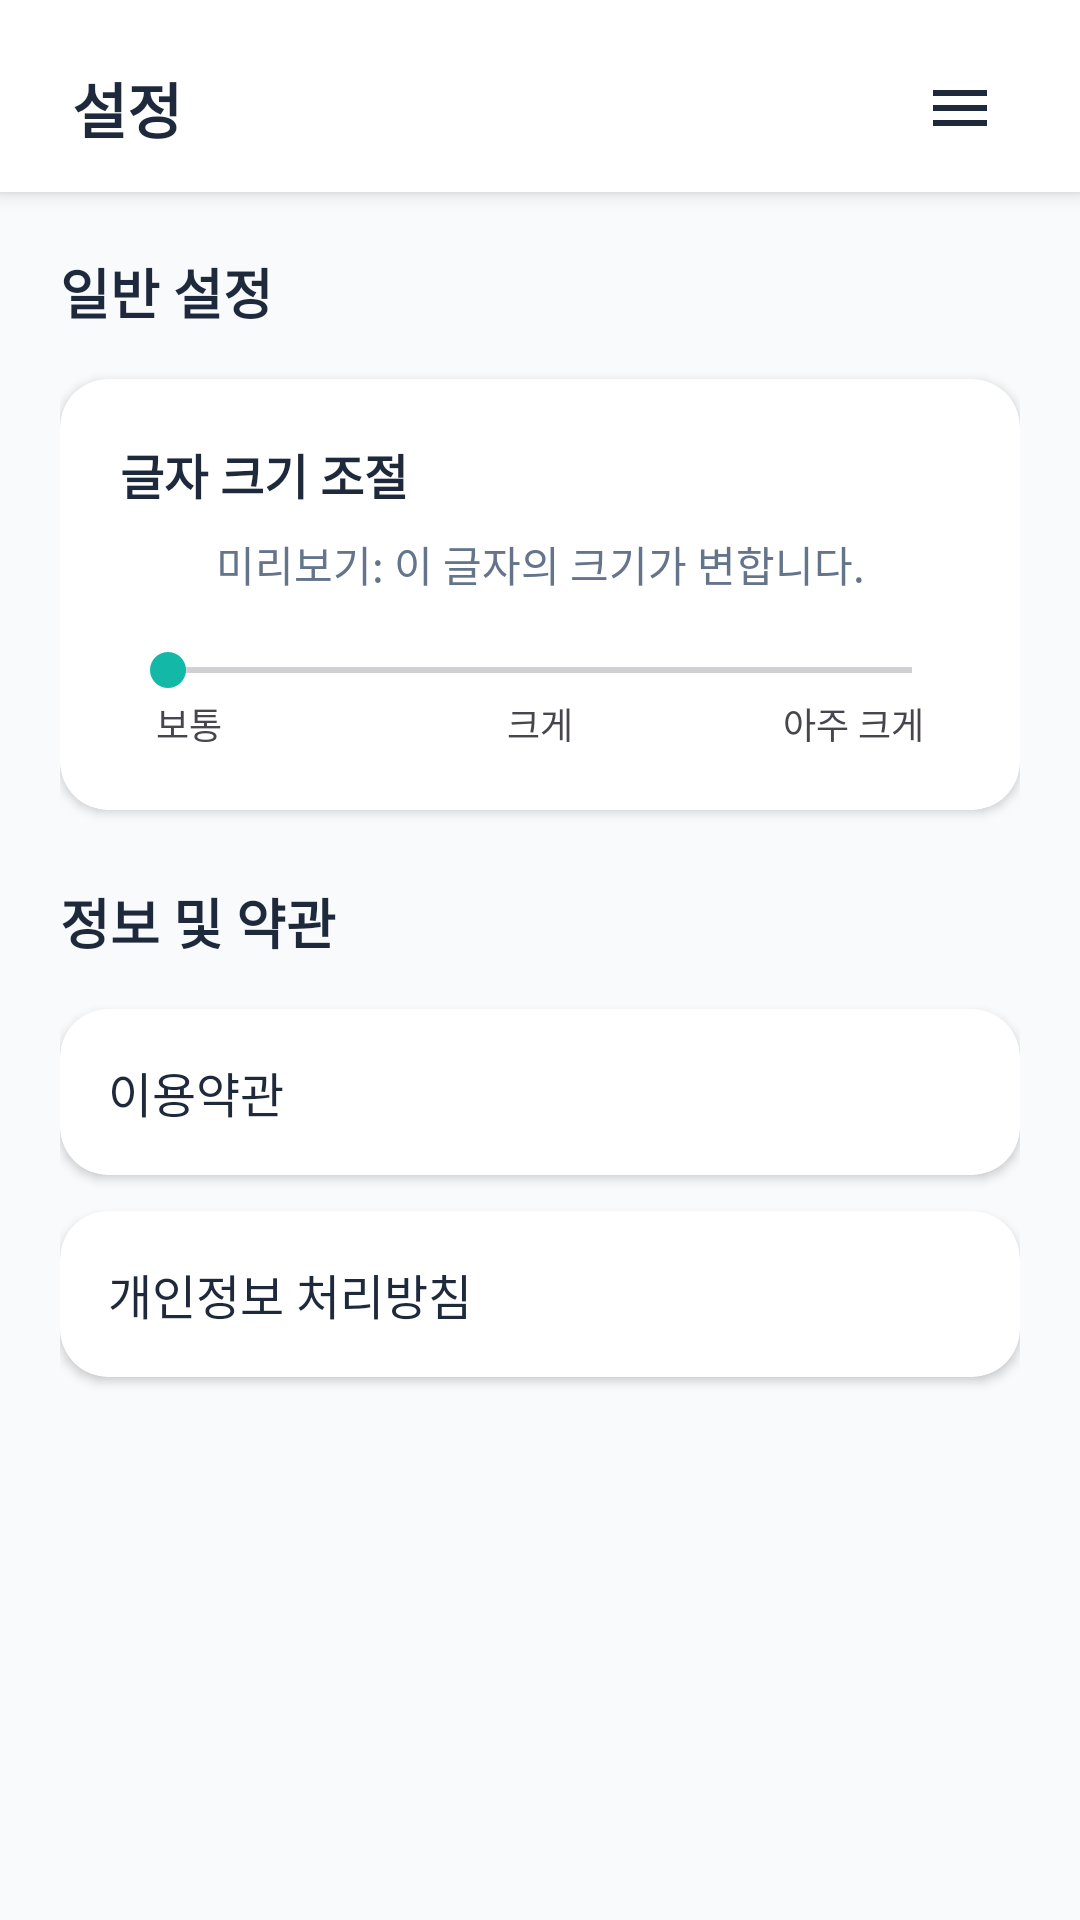

Icons on this 1080 × 1920 Android screen, each with its box as (x1, y1, x2, y2):
menu: (933, 90, 987, 126)
